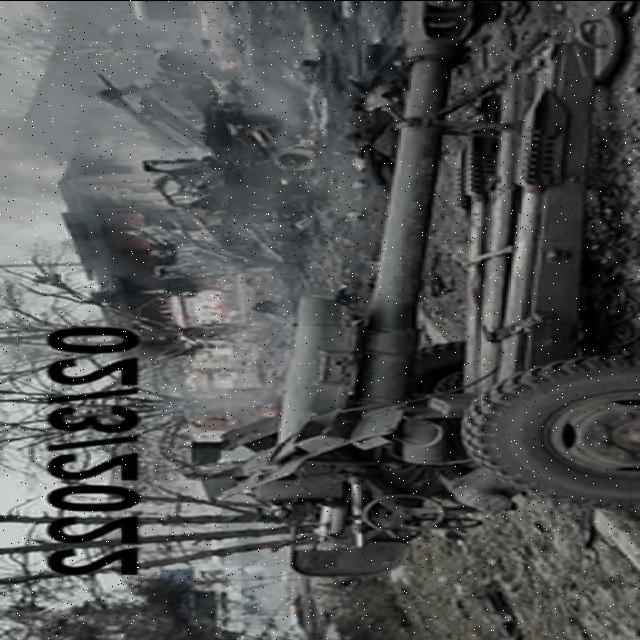ART: (189, 1, 618, 575)
